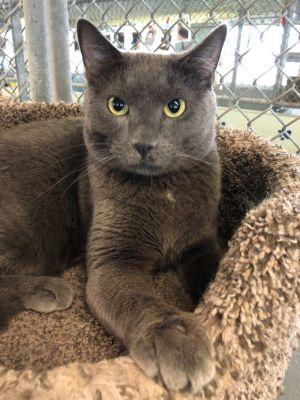rblue: (63, 11, 235, 191)
